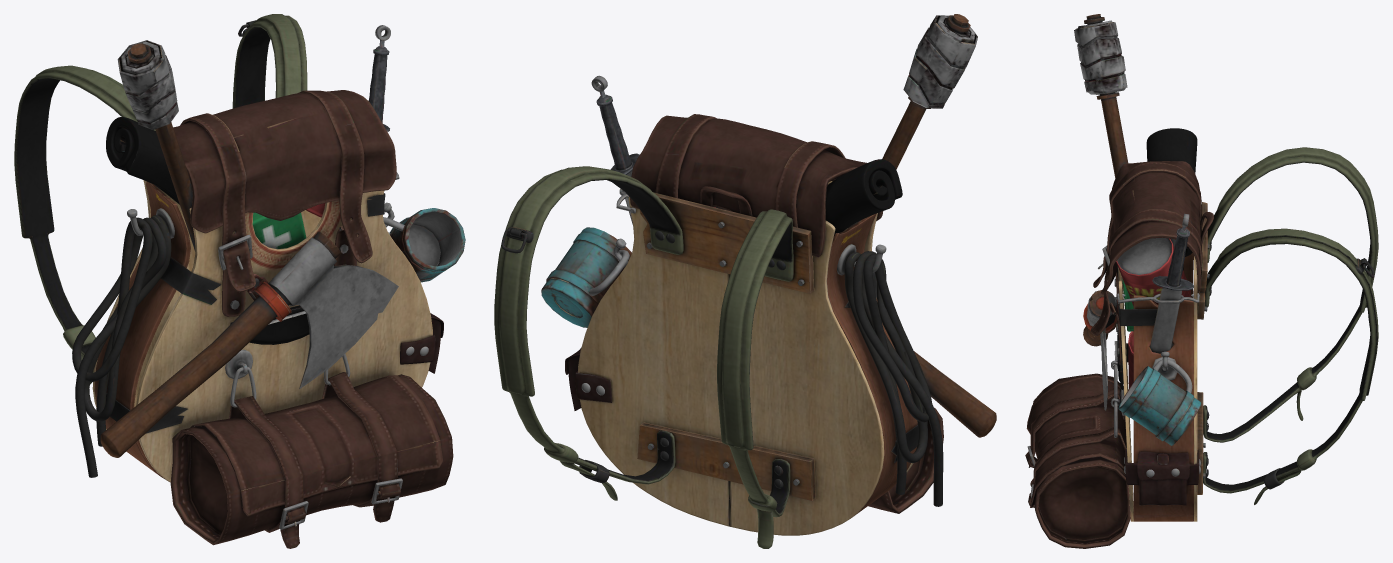
File: SurvivalGuitar.glb
The picture shows the model from 3 angles, left to right: view 1: azimuth 30°, elevation 25°; view 2: azimuth 150°, elevation 25°; view 3: azimuth 270°, elevation 25°; orthographic projection. The views are drawn at different scales.
Parts seen in each view (by area): view 1: Cylinder.030, Plane.008, Plane.011, Cube.050, Plane.014, Cube.037, BezierCurve.003, Cylinder.031, Cylinder.033, Plane.009, Cube.051, Cylinder.049 (+13 smaller); view 2: Plane.010, Cube.051, Plane.011, Cube.050, BezierCurve.003, Cube.030, Plane.009, Cube.032, Cylinder.049, Cylinder.034, Cube.047, Plane.014 (+5 smaller); view 3: Cylinder.030, Cube.050, Cube.051, Plane.009, Plane.011, Cylinder.049, Plane.014, Cylinder.034, Cylinder.035, Cylinder.032, Cylinder.031, Cube.053 (+10 smaller).
Part boxes in pixels (bbox=[...]): Cylinder.030: bbox=[170, 374, 453, 545]; Plane.008: bbox=[136, 190, 432, 482]; Plane.011: bbox=[173, 90, 396, 233]; Cube.050: bbox=[14, 65, 155, 384]; Plane.014: bbox=[180, 90, 372, 316]; Cube.037: bbox=[268, 237, 398, 388]; BezierCurve.003: bbox=[72, 215, 171, 477]; Cylinder.031: bbox=[228, 372, 400, 548]; Cylinder.033: bbox=[100, 231, 341, 457]; Plane.009: bbox=[94, 181, 190, 479]; Cube.051: bbox=[232, 14, 307, 108]; Cylinder.049: bbox=[383, 208, 465, 282]; Plane.010: bbox=[578, 196, 884, 535]; Cube.051: bbox=[494, 166, 683, 500]; Plane.011: bbox=[630, 115, 883, 257]; Cube.050: bbox=[717, 209, 793, 548]; BezierCurve.003: bbox=[844, 251, 943, 506]; Cube.030: bbox=[639, 192, 814, 293]; Plane.009: bbox=[827, 213, 917, 515]; Cube.032: bbox=[637, 422, 815, 500]; Cylinder.049: bbox=[541, 227, 631, 327]; Cylinder.034: bbox=[903, 15, 977, 108]; Cube.047: bbox=[825, 159, 902, 235]; Plane.014: bbox=[655, 114, 845, 227]; Cylinder.030: bbox=[1026, 373, 1130, 548]; Cube.050: bbox=[1203, 147, 1378, 442]; Cube.051: bbox=[1203, 228, 1378, 504]; Plane.009: bbox=[1133, 252, 1193, 521]; Plane.011: bbox=[1101, 161, 1200, 294]; Cylinder.049: bbox=[1118, 359, 1201, 445]; Plane.014: bbox=[1090, 161, 1202, 364]; Cylinder.034: bbox=[1074, 20, 1127, 94]; Cylinder.035: bbox=[1116, 237, 1190, 305]; Cylinder.032: bbox=[1150, 213, 1194, 353]; Cylinder.031: bbox=[1025, 388, 1126, 507]; Cube.053: bbox=[1125, 449, 1199, 505].
Size of the model in its own units: 4.16 by 5.15 by 3.86.
Materials: 1 (1 with a texture image).
